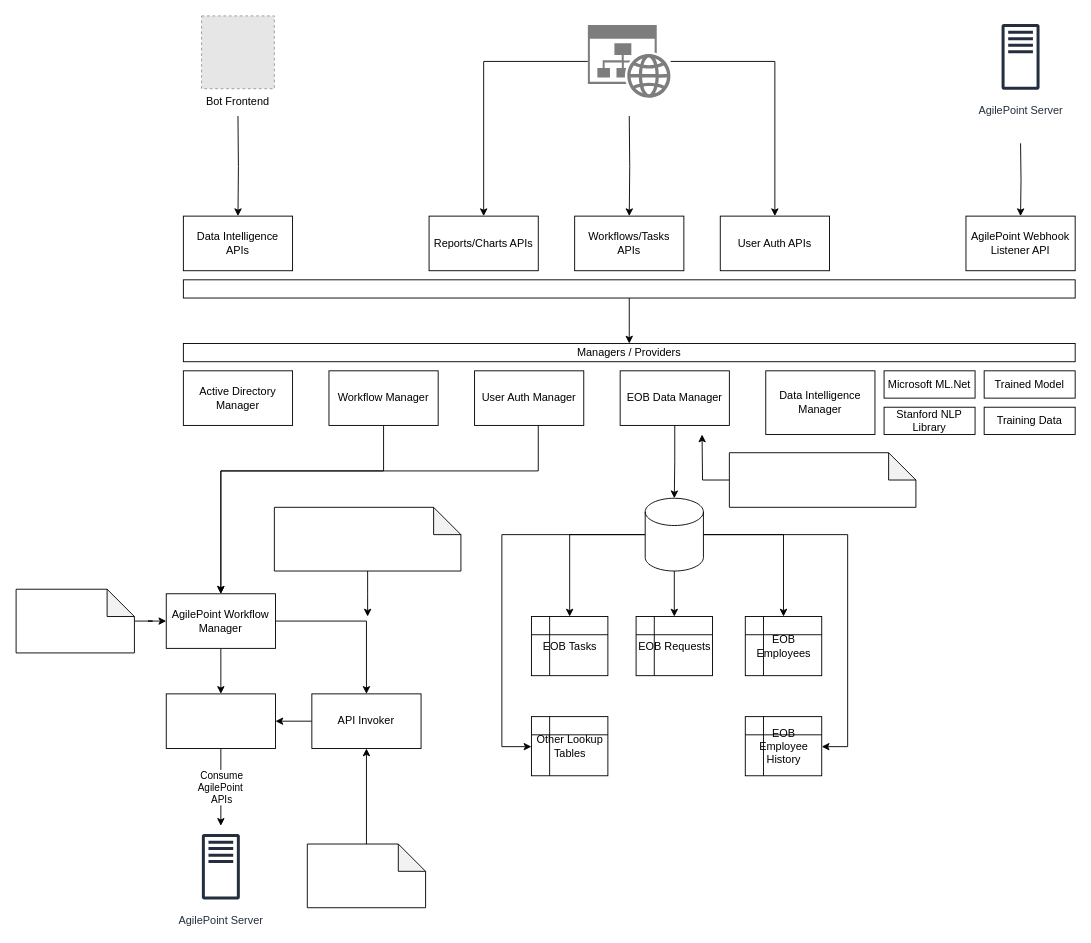
Some shapes in this 1091 by 943 pixel diagram are drawn without their labels. Grey dashed boxes stand in for pictures. The shapes that lost their labels are listed below. From the top down, each one's box as (x1, y1, x2, y2) in pixels, then its label:
(587, 25, 670, 97): EOB Portal Frontend
(182, 279, 1075, 298): API Layer
(728, 452, 916, 507): Encapsulates database CRUD by .Net Entity Core methods
(273, 506, 461, 571): Ex: var api = new GetProcessInstance(...) apiInvoker.Invoke(api)
(644, 497, 703, 571): Custom EOB Database
(15, 588, 134, 653): Implements IWorkflowManager Interface
(165, 693, 275, 748): BPM.APIWrapper .AgilePoint
(306, 843, 426, 908): Encapsulates all the API low level calls.
